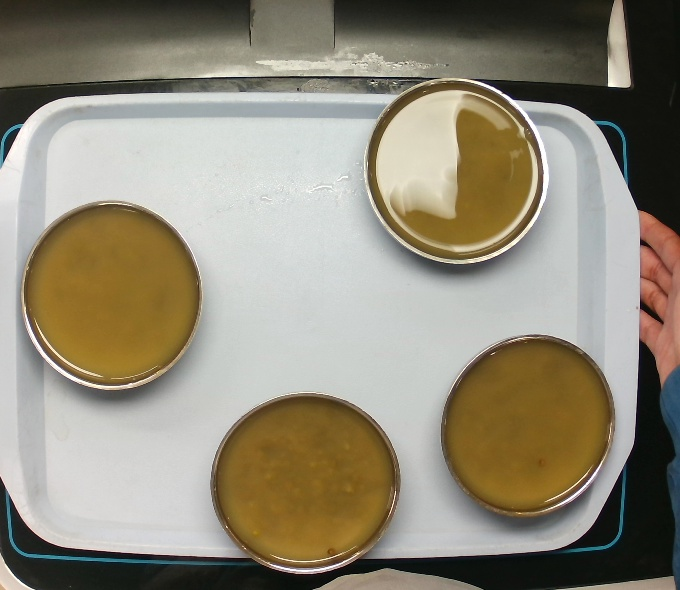wcq-LvDouTang: (23, 197, 204, 390), (207, 392, 397, 575), (363, 78, 545, 259), (438, 334, 617, 518)
